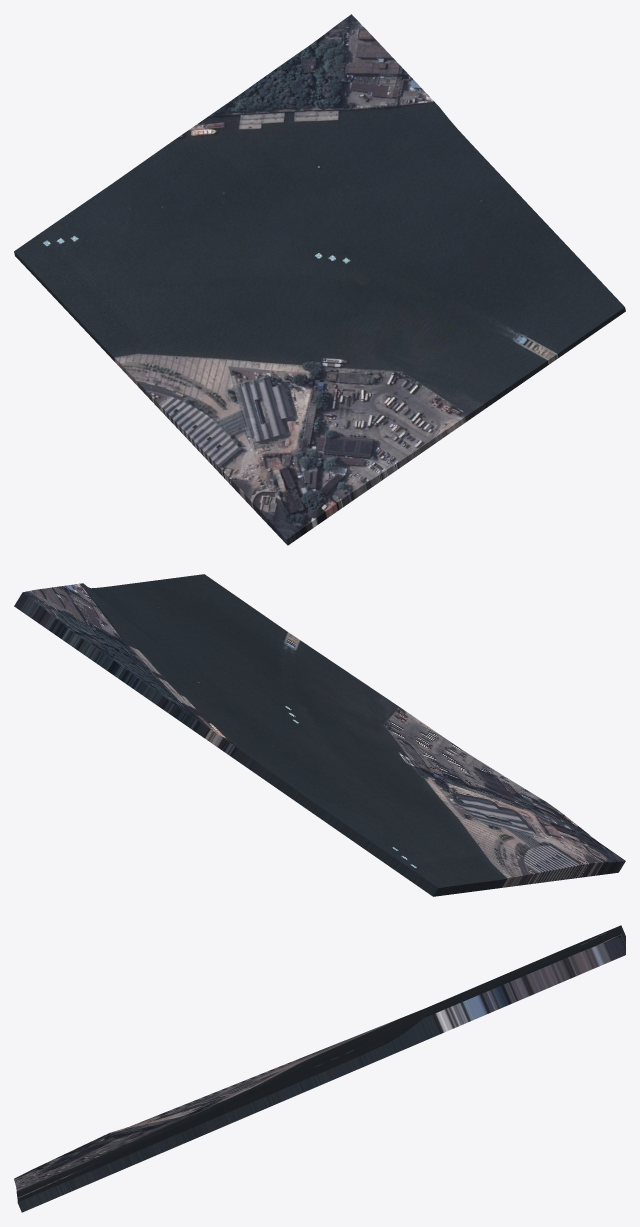
3 renders of one model, top to bottom at view 1: azimuth 30°, elevation 25°; view 2: azimuth 150°, elevation 25°; view 3: azimuth 270°, elevation 25°, orthographic. The views are drawn at different scales.
Visible parts, largest first — view 1: 0_12_4; view 2: 0_12_4; view 3: 0_12_4.
Boxes of the visible parts, bbox=[...] form: 0_12_4: bbox=[14, 14, 625, 545]; 0_12_4: bbox=[14, 574, 625, 896]; 0_12_4: bbox=[14, 925, 625, 1212].
Size of the model in its own units: 596 by 442 by 549.
Materials: 1 (1 with a texture image).
